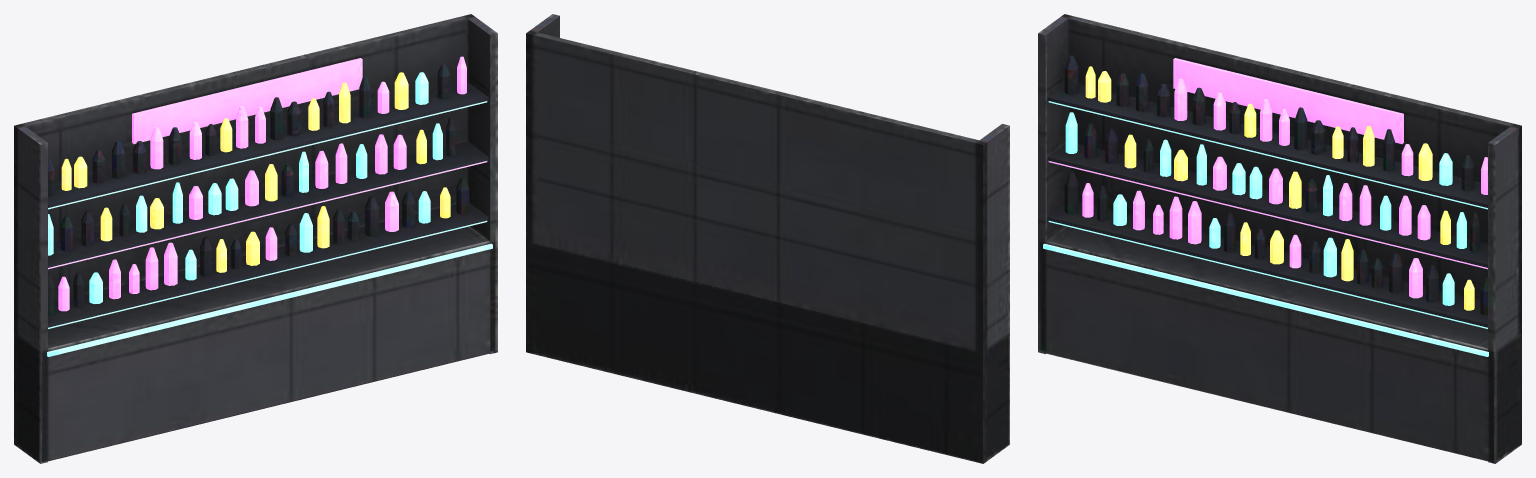
File: prateleira_bar.glb
The picture shows the model from 3 angles, left to right: view 1: azimuth 30°, elevation 25°; view 2: azimuth 150°, elevation 25°; view 3: azimuth 330°, elevation 25°; orthographic projection.
Visible parts, largest first — view 1: prateleira_bar; view 2: prateleira_bar; view 3: prateleira_bar.
Boxes of the visible parts, <box> form: prateleira_bar: <box>14,14,497,463</box>; prateleira_bar: <box>526,14,1009,463</box>; prateleira_bar: <box>1038,14,1521,463</box>.
Bounding box in the file's own units: 3.6 × 2.4 × 0.38.
Materials: 1 (1 with a texture image).
